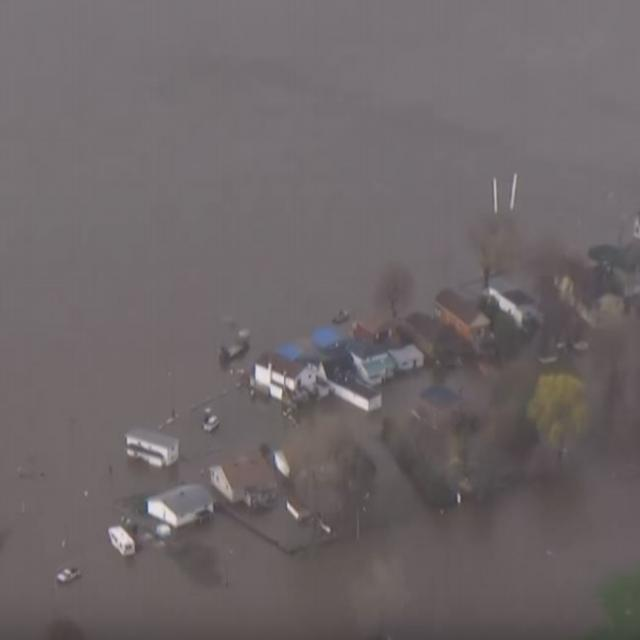flood: (0, 0, 640, 640)
house: (207, 450, 272, 513), (434, 288, 492, 354), (251, 349, 317, 403), (146, 484, 217, 534), (123, 422, 181, 469), (350, 336, 393, 388), (386, 334, 426, 372)
